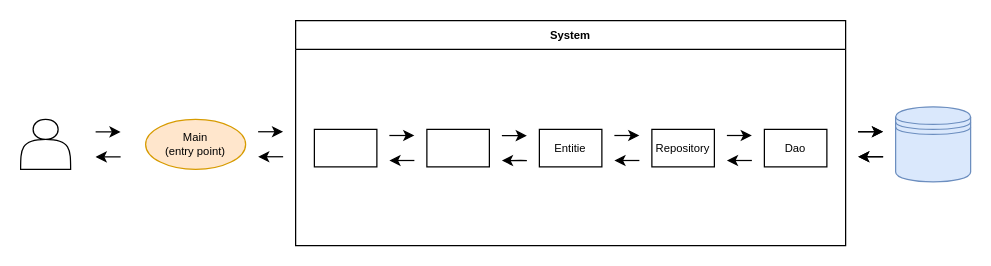
The diagram is 991 pixels wide and 266 high, and some of its shapes have lost their labels. Each missing label, with the centre of its shape:
"Service" belongs at (x=457, y=147).
"Ui" belongs at (x=345, y=147).
